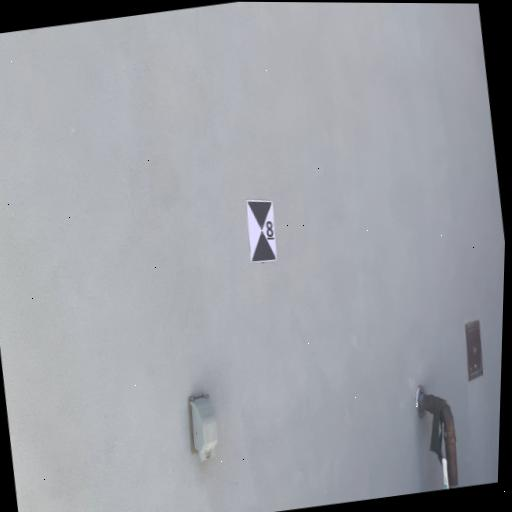target8: (247, 200, 277, 261)
